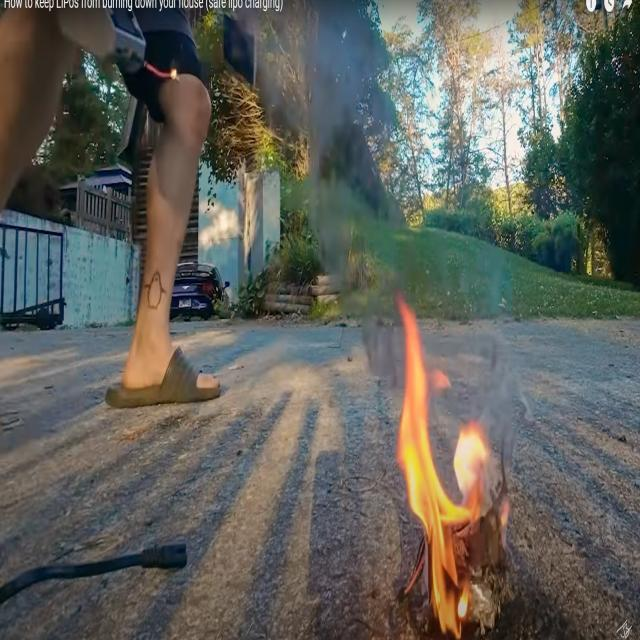Fire: (393, 294, 482, 640)
Smoke: (250, 0, 394, 340)
